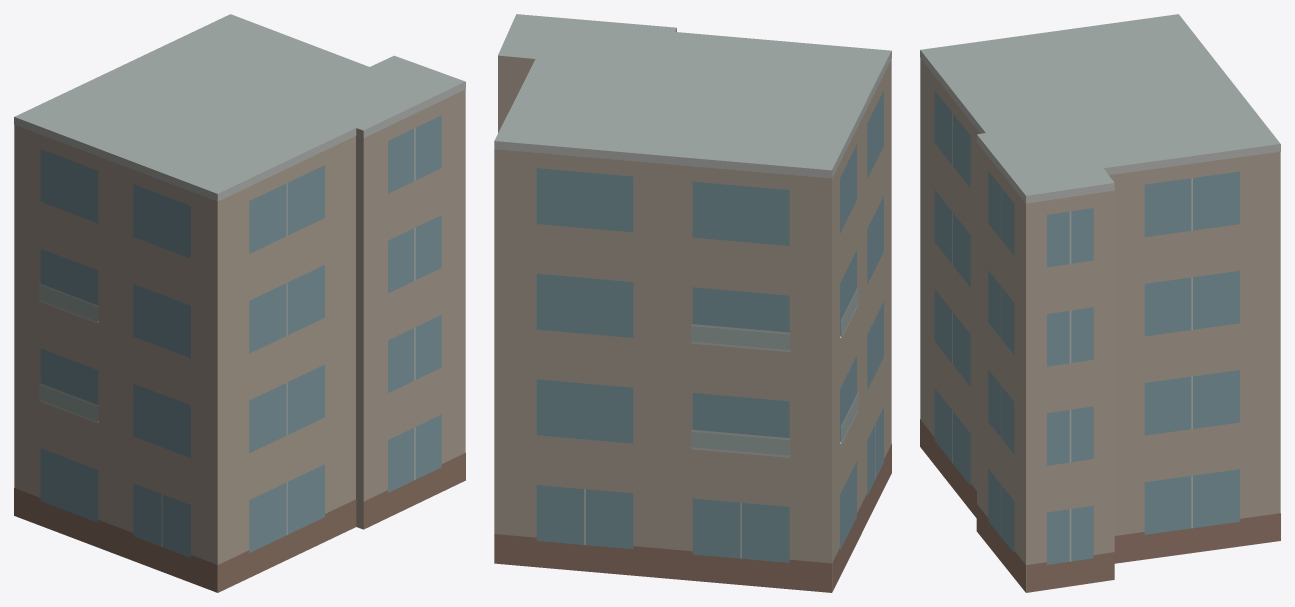
The model's file is survey-upis-32721263.glb.
3 renders of one model, left to right at view 1: azimuth 30°, elevation 25°; view 2: azimuth 150°, elevation 25°; view 3: azimuth 270°, elevation 25°, orthographic. The views are drawn at different scales.
Visible parts, largest first — view 1: survey-upis-32721263.tmp; view 2: survey-upis-32721263.tmp; view 3: survey-upis-32721263.tmp.
Part boxes in pixels (x1,y1,x2,y2): survey-upis-32721263.tmp: [14, 14, 465, 592]; survey-upis-32721263.tmp: [494, 14, 891, 592]; survey-upis-32721263.tmp: [920, 14, 1280, 592].
Size of the model in its own units: 12.45 by 12.65 by 10.43.
